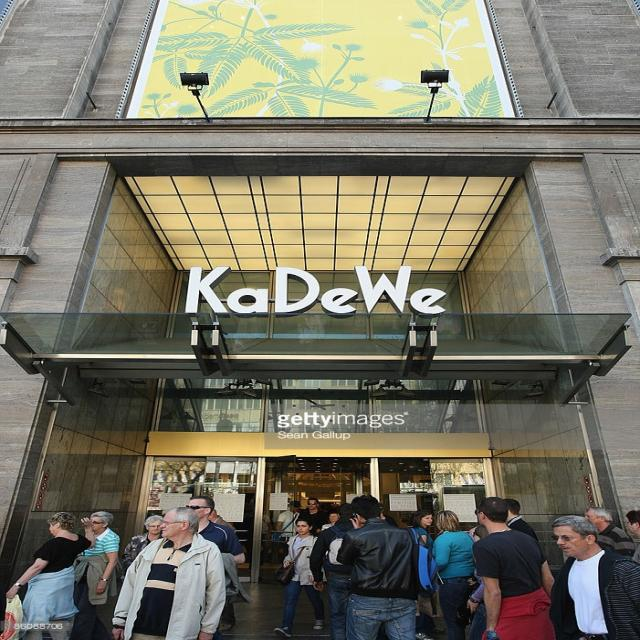body: (108, 504, 228, 639), (332, 493, 438, 639), (471, 496, 561, 640), (0, 510, 98, 640), (546, 512, 639, 639), (68, 510, 123, 640), (184, 495, 248, 606), (307, 501, 358, 640), (271, 516, 328, 640), (432, 509, 476, 640), (120, 514, 164, 582), (466, 524, 490, 640), (584, 507, 636, 560), (379, 503, 483, 528), (275, 499, 304, 576), (500, 498, 539, 543), (294, 496, 330, 536), (409, 509, 435, 551), (414, 609, 448, 640), (624, 508, 640, 562), (208, 508, 236, 533), (319, 511, 342, 531), (262, 508, 273, 530)
